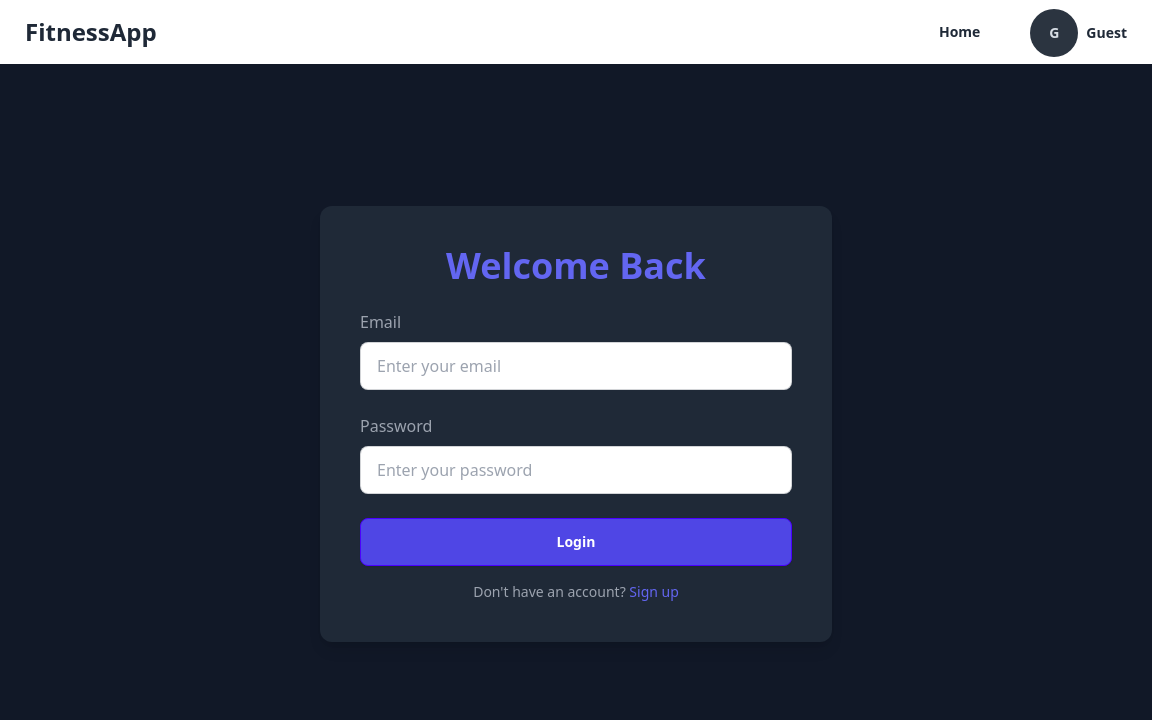
Test: Login Component › renders signup form when 'Sign up' button is clicked
Switch to signup form
What coordinates should you click on to do the following:
click the button "Sign up"
I would click on:
 (654, 592)
Its box is top-left (629, 582), bottom-right (679, 602).
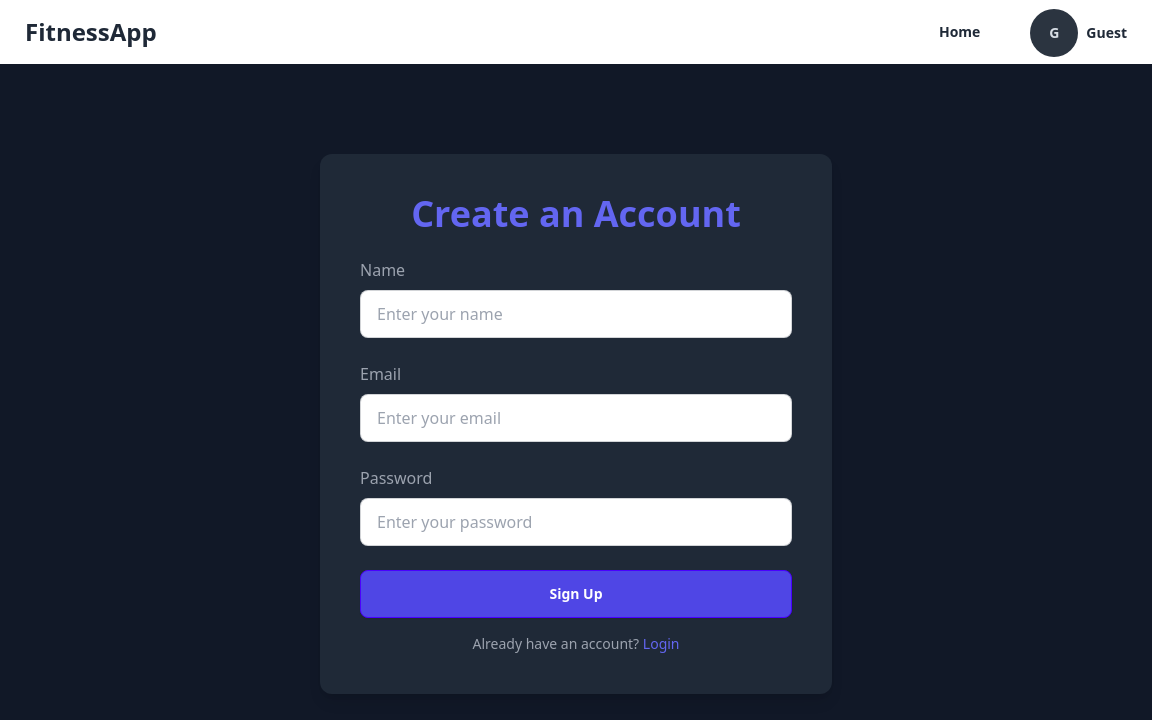
Expected: the heading "Create an Account" is shown, top-left (411, 189), bottom-right (741, 238)
Expected: the field with placeholder "Enter your email" is shown, top-left (360, 394), bottom-right (792, 442)
Expected: the password field with placeholder "Enter your password" is shown, top-left (360, 498), bottom-right (792, 546)
